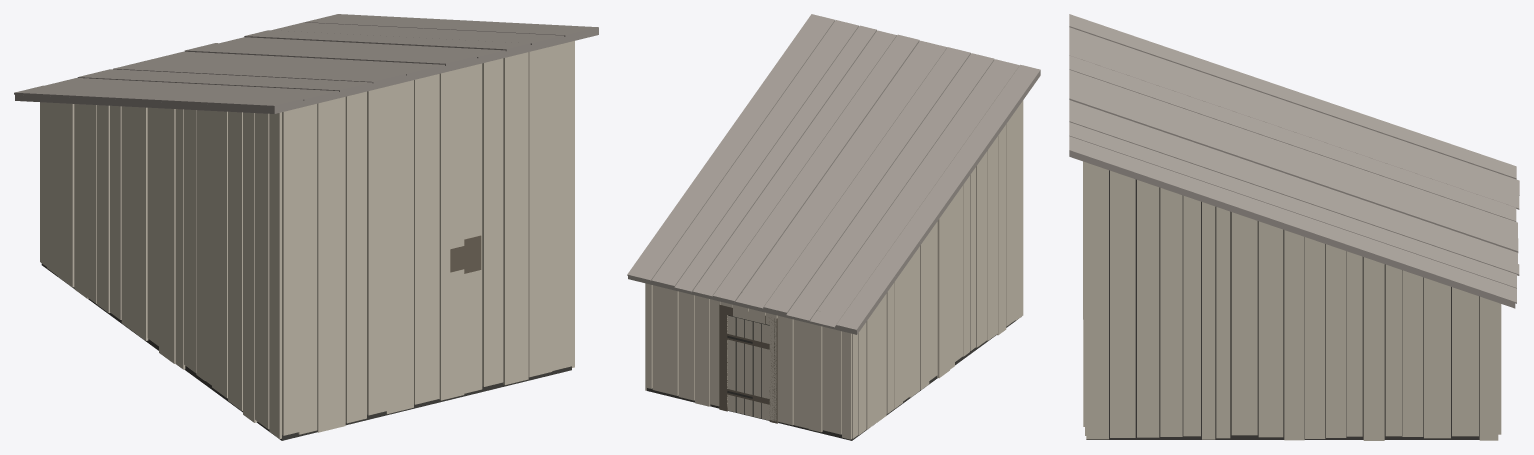
File: recon_1835_south_d2_024__inferred_1835.glb
The picture shows the model from 3 angles, left to right: view 1: azimuth 30°, elevation 25°; view 2: azimuth 150°, elevation 25°; view 3: azimuth 270°, elevation 25°; orthographic projection. The views are drawn at different scales.
Parts seen in each view (by area): view 1: recon_1835_south_d2_024__inferred_1835; view 2: recon_1835_south_d2_024__inferred_1835; view 3: recon_1835_south_d2_024__inferred_1835.
Part boxes in pixels (x1,y1,x2,y2): recon_1835_south_d2_024__inferred_1835: (14, 14, 598, 440); recon_1835_south_d2_024__inferred_1835: (627, 14, 1040, 440); recon_1835_south_d2_024__inferred_1835: (1069, 14, 1519, 440).
Size of the model in its own units: 4.66 by 4.76 by 6.53.
